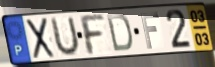2: (165, 8, 193, 50)
D: (105, 13, 134, 54)
F: (77, 14, 107, 57), (139, 12, 161, 51)
U: (50, 15, 81, 59)
X: (25, 16, 56, 61)
